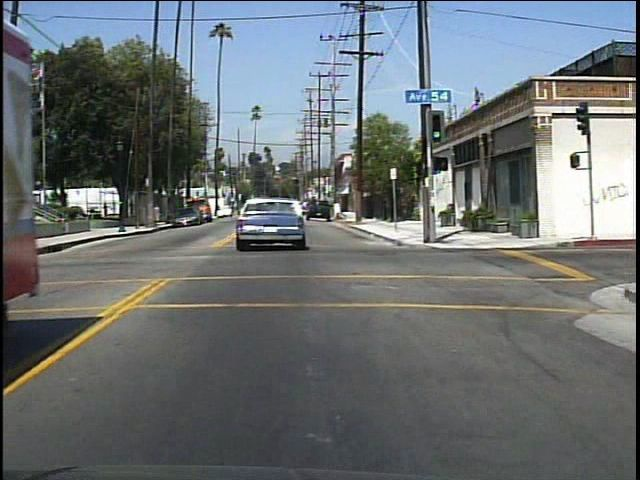person: (153, 203, 164, 230), (100, 200, 111, 220), (129, 199, 137, 220)
